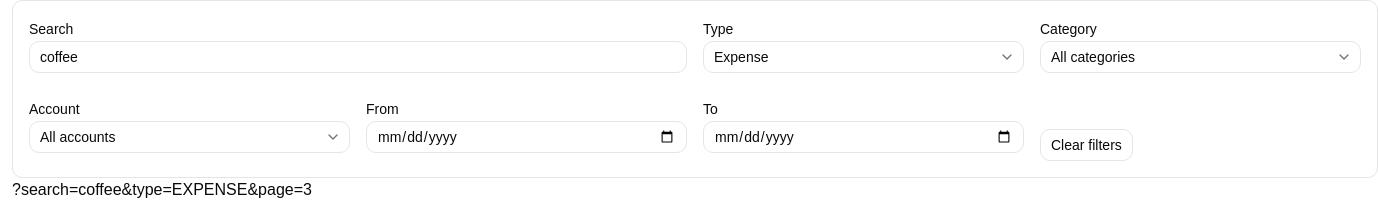
Test: TransactionFiltersBar › shows Clear filters only when active and clears the query
This screenshot has width=1378, height=215.
What coordinates should you click on to do the following:
click the button "Clear filters"
I would click on:
 (1086, 145)
Its box is [1040, 129, 1133, 161].
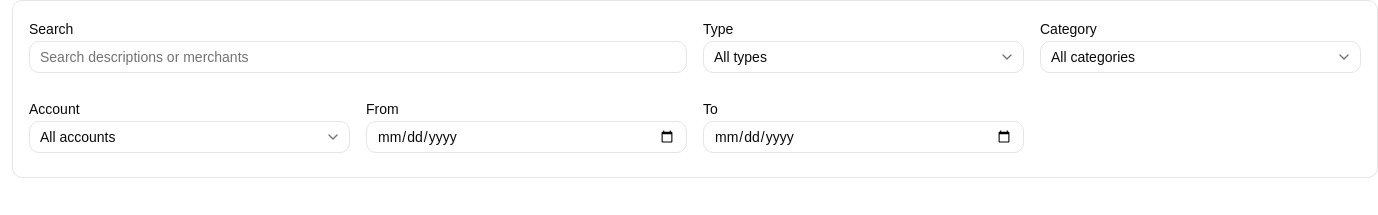
Result: the search field labelled "Search" is empty at [29, 41, 687, 73]
